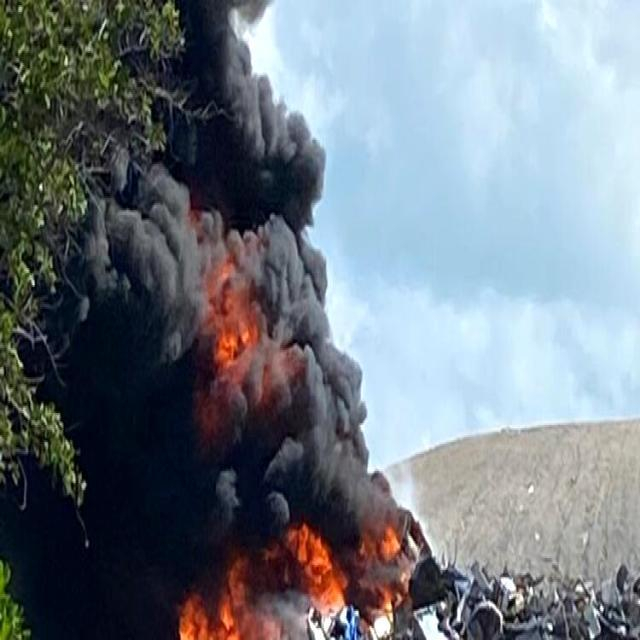Fire: (288, 518, 356, 628), (181, 564, 258, 640)
Smoke: (64, 2, 430, 603)
